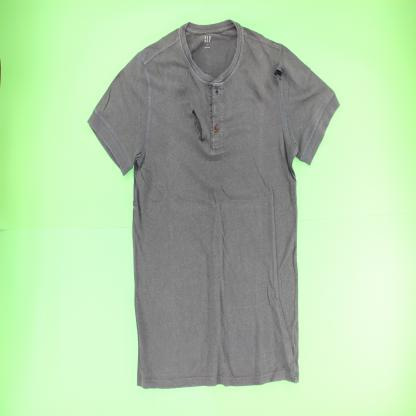hole: (190, 108, 205, 143), (272, 67, 284, 81)
